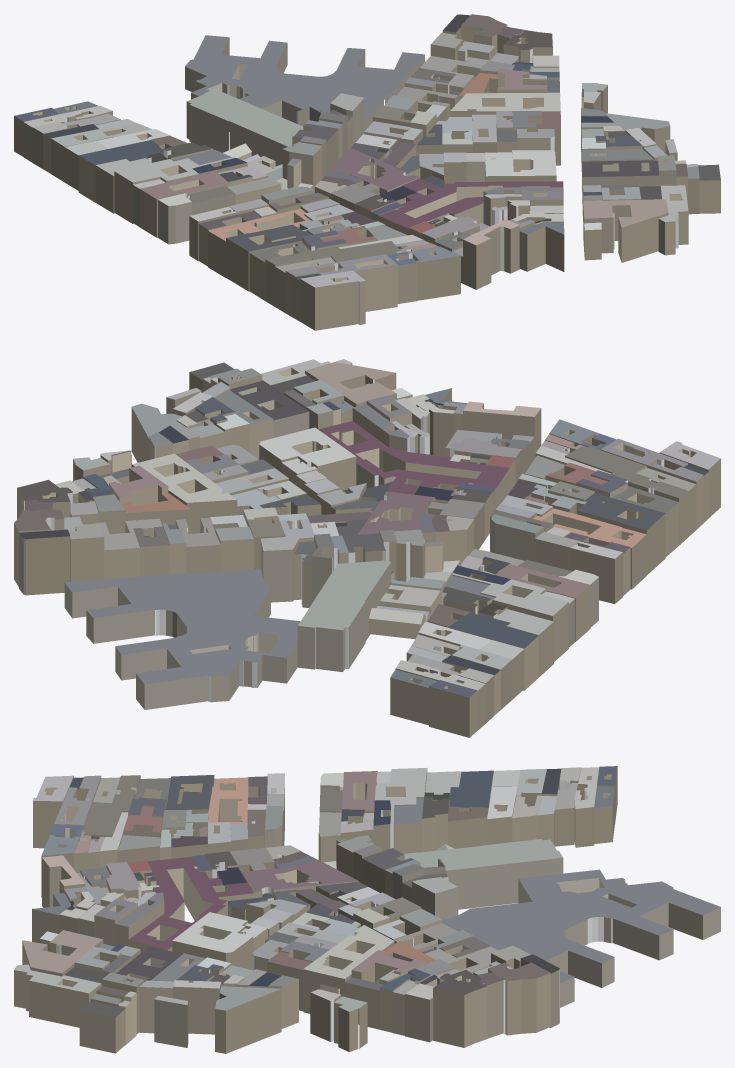
The picture shows the model from 3 angles, top to bottom: view 1: azimuth 30°, elevation 25°; view 2: azimuth 150°, elevation 25°; view 3: azimuth 270°, elevation 25°; orthographic projection. The views are drawn at different scales.
Parts seen in each view (by area): view 1: tuile; view 2: tuile; view 3: tuile.
Boxes of the visible parts, bbox=[...] form: tuile: bbox=[14, 14, 720, 330]; tuile: bbox=[14, 359, 720, 737]; tuile: bbox=[14, 766, 720, 1053].
Size of the model in its own units: 267 by 31.09 by 313.
